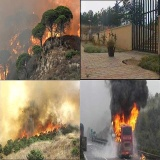fire: (111, 102, 138, 143), (10, 25, 25, 61), (34, 121, 67, 136), (29, 33, 40, 57), (52, 25, 66, 37), (42, 27, 51, 45), (0, 64, 8, 80), (105, 27, 111, 44), (21, 131, 28, 140), (77, 23, 80, 37), (140, 155, 146, 159)
